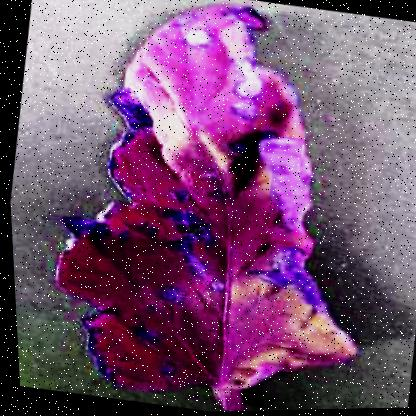BACTERIAL SPOT: (14, 0, 411, 415)
